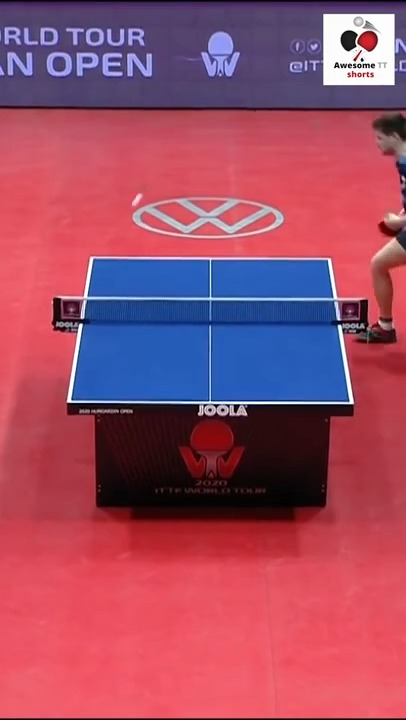Ball: (129, 193, 148, 209)
